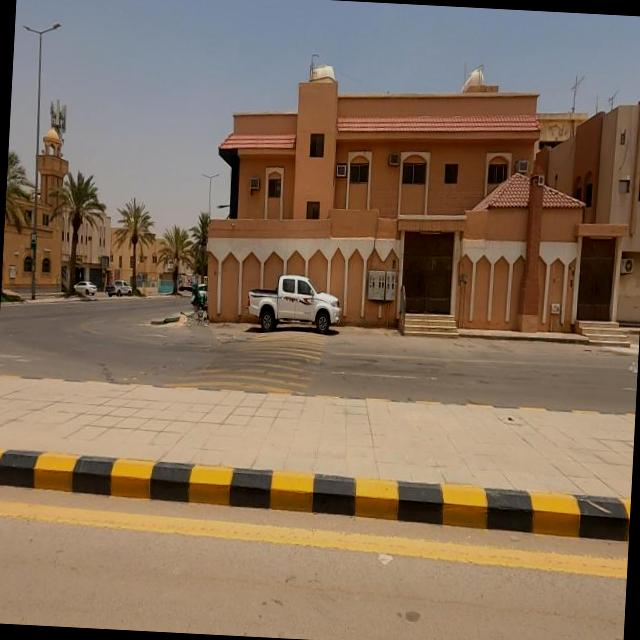debris: (181, 289, 228, 347)
